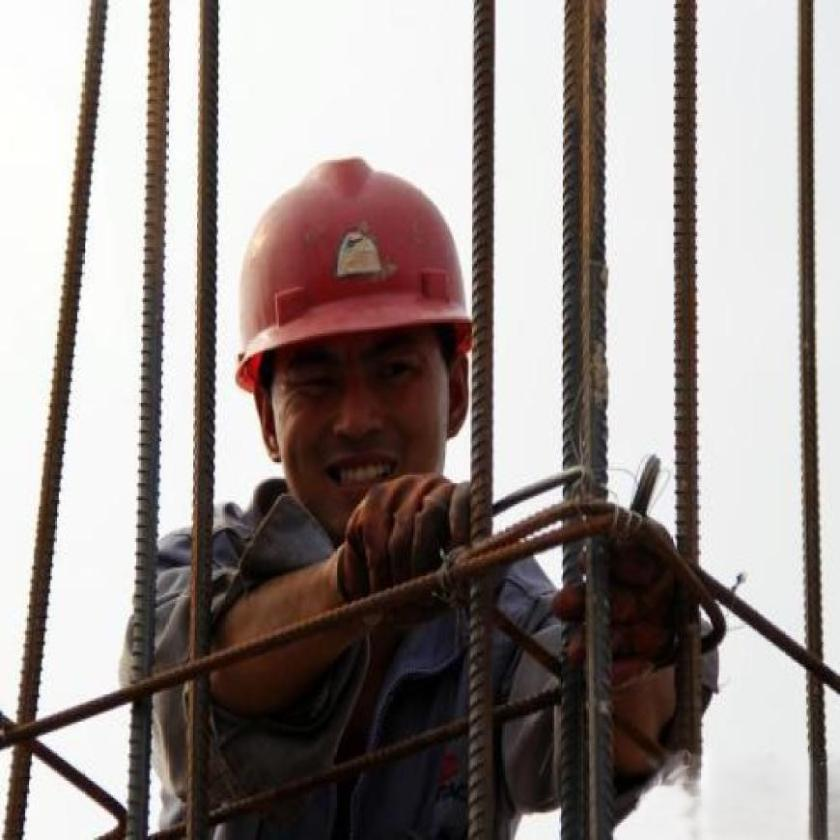Con_casco: (239, 153, 471, 506)
